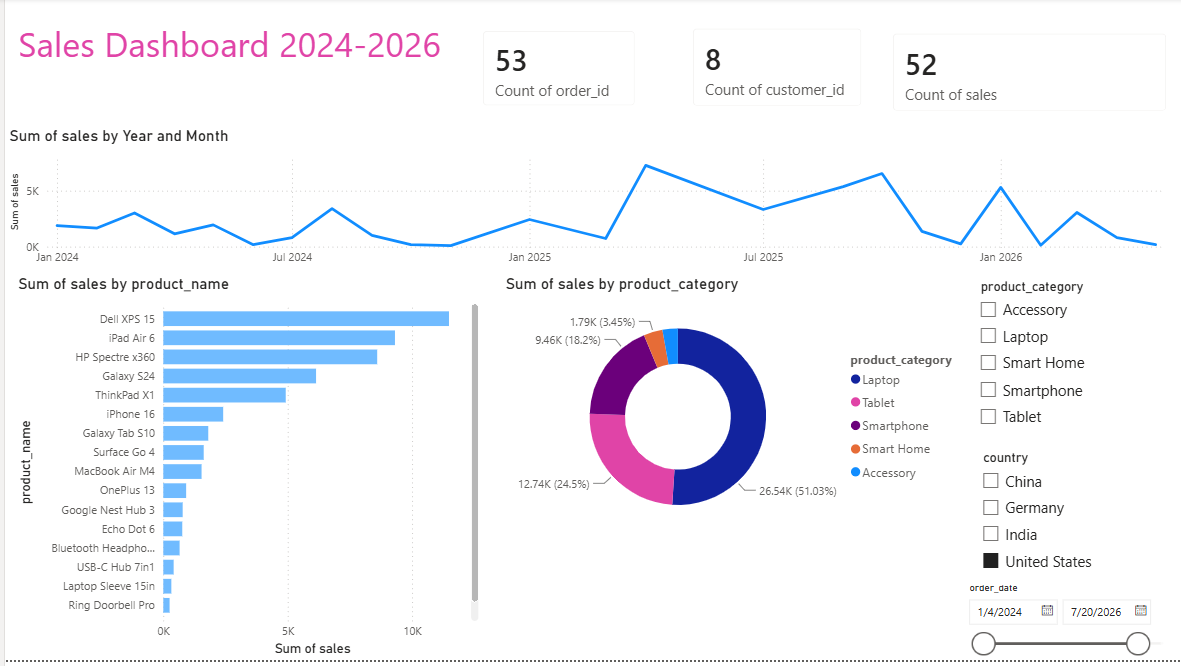

What the dashboard file says about the page in this screenshot:
{"tool":"powerbi","page":{"name":"Page 1","canvas":[1280,720],"ordinal":0},"visuals":[{"type":"barChart","fields":{"Category":["orders.product_name"],"Y":["Sum(orders.sales)"]},"box":[9.6,300.5,510.5,419.9],"z":0},{"type":"donutChart","fields":{"Category":["orders.product_category"],"Y":["Sum(orders.sales)"]},"box":[539.3,300.5,510.5,290.9],"z":1000},{"type":"cardVisual","fields":{"Data":["Count(orders.order_id)"]},"box":[502.9,19,199.8,115.5],"z":2000},{"type":"cardVisual","fields":{"Data":["Count(orders.customer_id)"]},"box":[731.2,16.3,217.5,118.2],"z":3000},{"type":"cardVisual","fields":{"Data":["Count(orders.sales)"]},"box":[948.7,21.7,331.6,118.2],"z":4000},{"type":"lineChart","fields":{"Y":["Sum(orders.sales)"],"Category":["orders.order_date.Variation.Date Hierarchy.Year","orders.order_date.Variation.Date Hierarchy.Month"]},"box":[0,140,1280.3,160.5],"z":5000},{"type":"slicer","fields":{"Values":["orders.order_date"]},"box":[1035.6,629.3,244.6,91.1],"z":6000},{"type":"slicer","fields":{"Values":["customers.country"]},"box":[1050.6,486.6,229.7,152.2],"z":7000},{"type":"textbox","box":[9.5,19,475.7,115.5],"z":8000},{"type":"slicer","fields":{"Values":["orders.product_category"]},"box":[1047.9,300.4,232.4,175.3],"z":9000}]}

Visuals, with their boxes in screenshot pixels (x1, y1, x2, y2), scaled from the page's 1280x720 canvas onto the 1181x666 screenshot:
barChart - orders.product_name x Sum(orders.sales): bbox(9, 278, 480, 665)
donutChart - orders.product_category x Sum(orders.sales): bbox(498, 278, 969, 547)
cardVisual - Count(orders.order_id): bbox(464, 18, 648, 124)
cardVisual - Count(orders.customer_id): bbox(675, 15, 875, 124)
cardVisual - Count(orders.sales): bbox(875, 20, 1180, 129)
lineChart - Sum(orders.sales) x orders.order_date.Variation.Date Hierarchy.Year: bbox(0, 130, 1180, 278)
slicer - orders.order_date: bbox(956, 582, 1180, 665)
slicer - customers.country: bbox(969, 450, 1180, 591)
textbox: bbox(9, 18, 448, 124)
slicer - orders.product_category: bbox(967, 278, 1180, 440)
